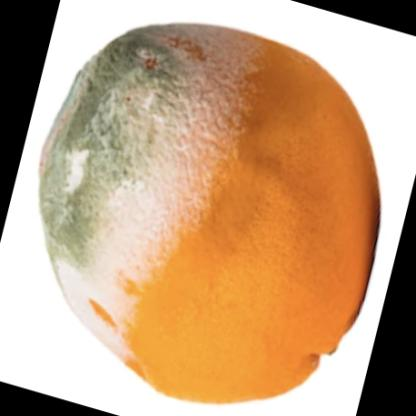rotten: (39, 23, 380, 401)
